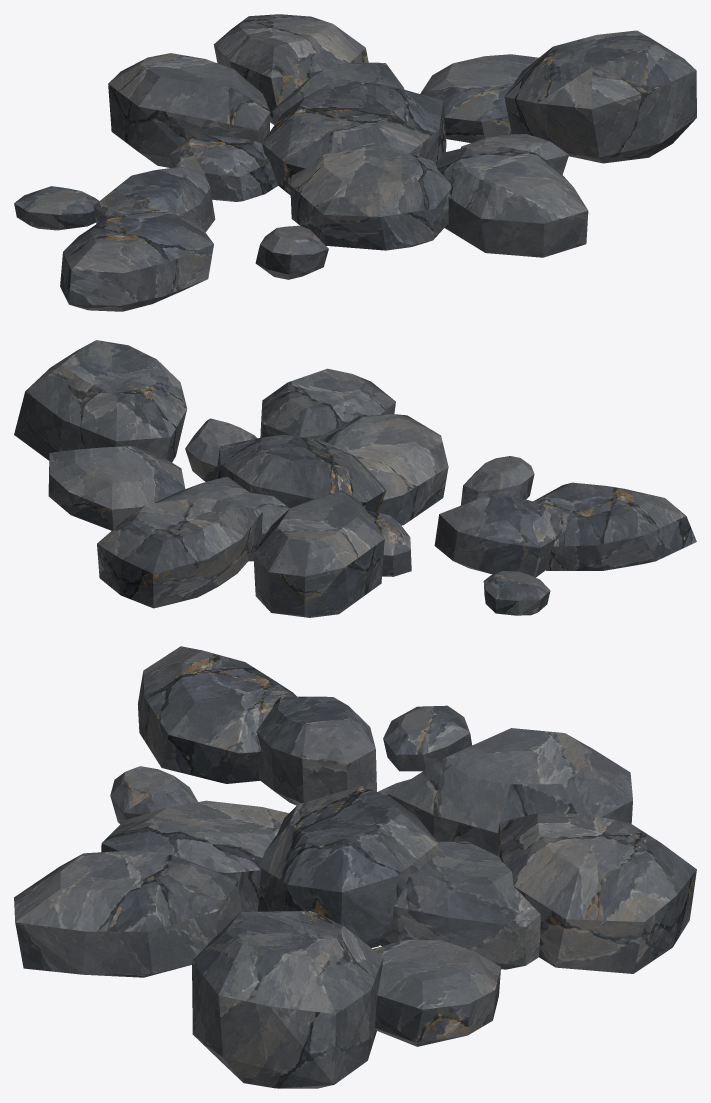
Rendered from Cave_R07_Scatter.fbx.
3 views of the same model, one above another, from view 1: azimuth 30°, elevation 25°; view 2: azimuth 150°, elevation 25°; view 3: azimuth 270°, elevation 25° (orthographic). The views are drawn at different scales.
Parts seen in each view (by area): view 1: Cave_R07_Scatter_LOD0; view 2: Cave_R07_Scatter_LOD0; view 3: Cave_R07_Scatter_LOD0.
Part boxes in pixels (box(x1,y1,x2,y2)): Cave_R07_Scatter_LOD0: box(14, 14, 696, 311); Cave_R07_Scatter_LOD0: box(14, 340, 696, 617); Cave_R07_Scatter_LOD0: box(14, 646, 696, 1088).
Size of what is drawn, in the model's own units: 2.79 by 0.4131 by 1.98.
1 material, 1 textured.
